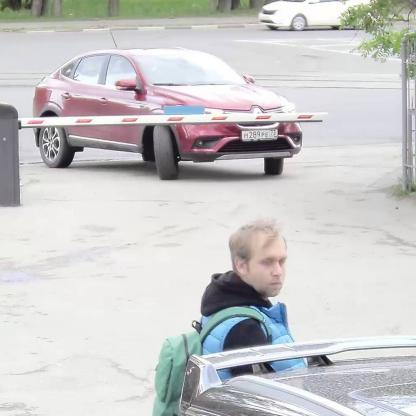plate: (242, 129, 278, 140)
